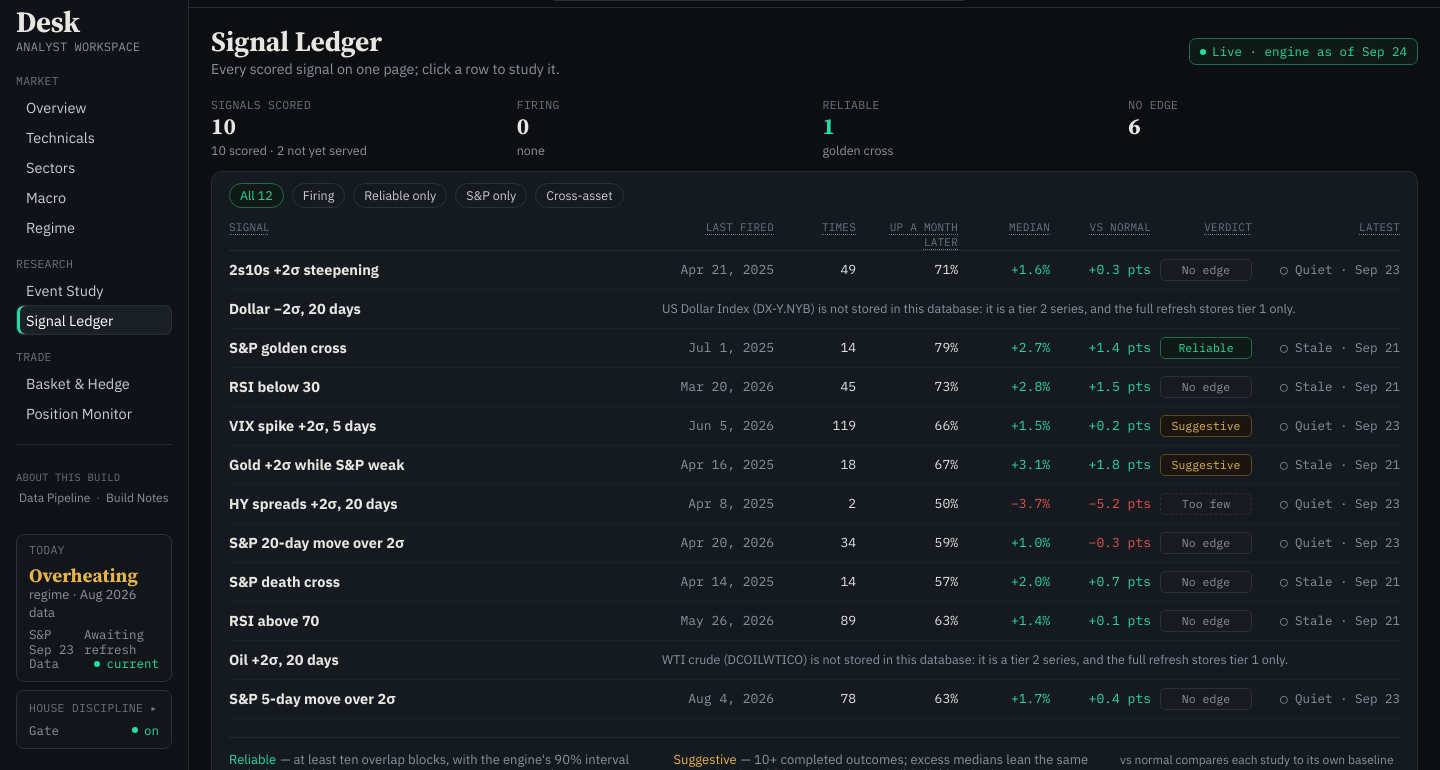
Test: Signal Ledger tab › Space opens a row too; a chip shows it is pressed
Expected: the table is shown, left=229, top=210, right=1400, bottom=719
Click the button "S&P only" at (491, 196), box left=455, top=183, right=527, bottom=208
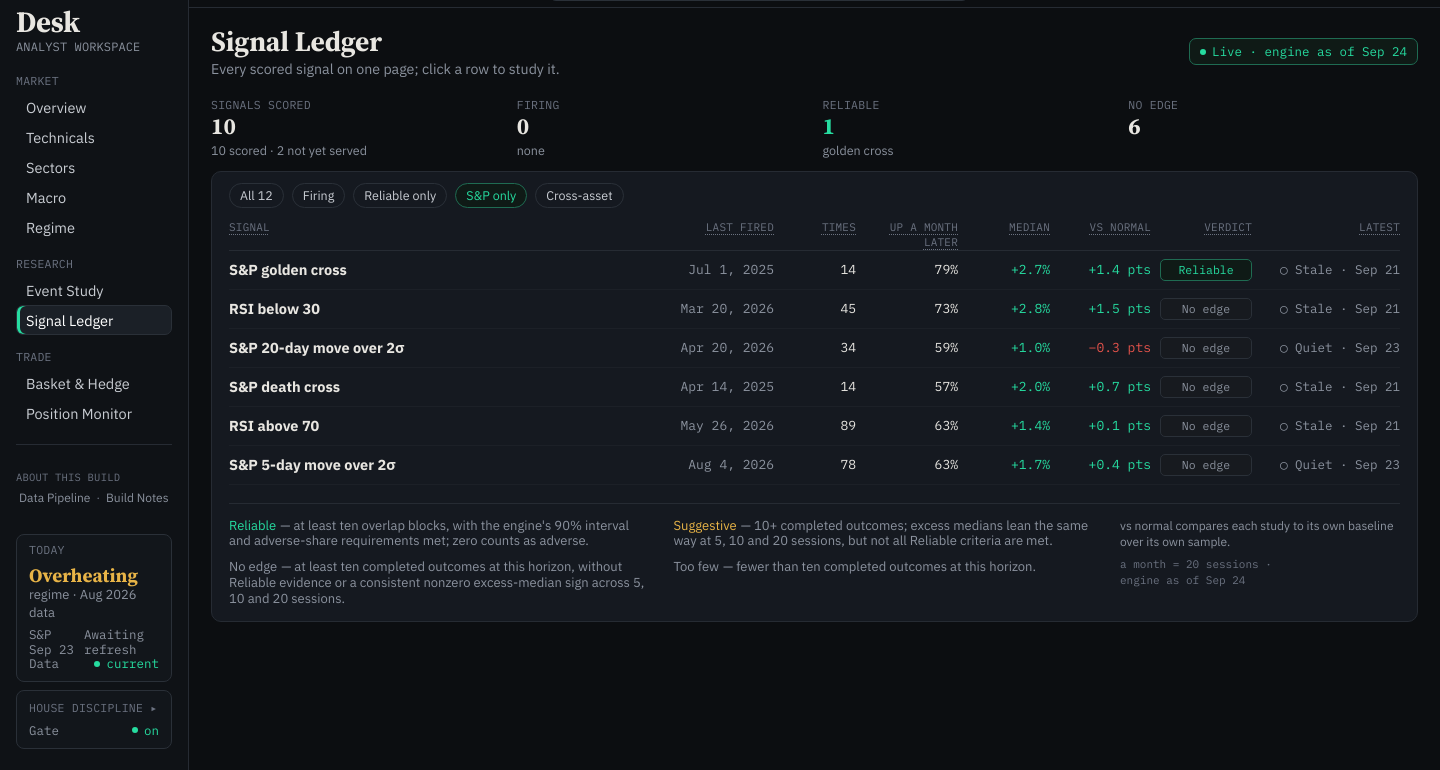
Expected: the button "S&P only" is pressed, left=455, top=183, right=527, bottom=208
Expected: the button "All 12" is not pressed, left=229, top=183, right=284, bottom=208
Press Space in the row "S&P death cross", box left=229, top=367, right=1400, bottom=406
(page scrolled)
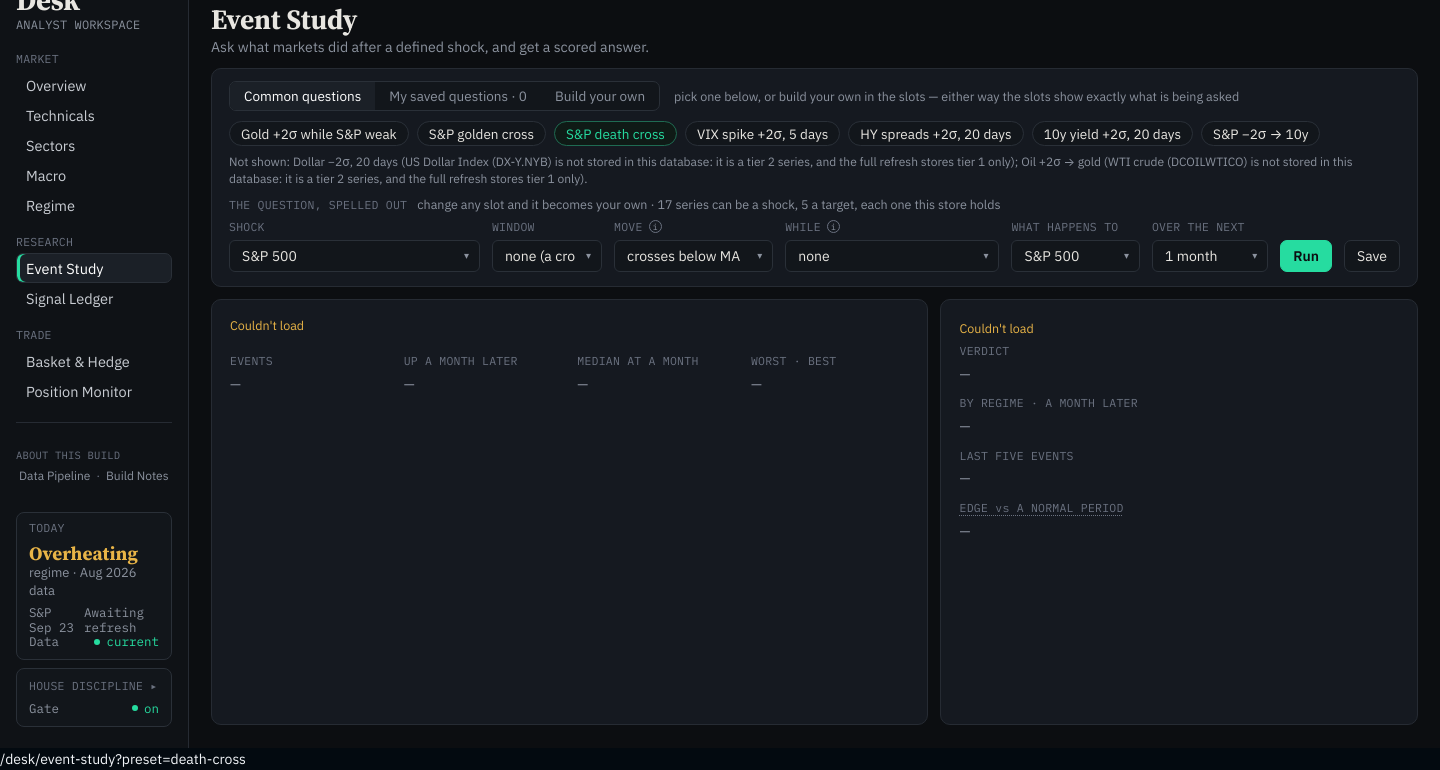
Expected: the text with test id "loc" reads "/desk/event-study?preset=death-cross", left=0, top=750, right=246, bottom=768
